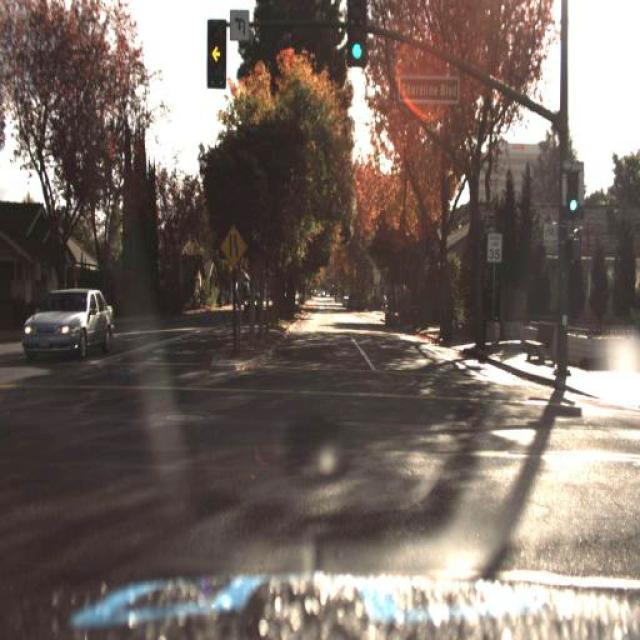semaforo: (206, 19, 226, 89), (348, 0, 368, 68), (566, 169, 579, 217)
